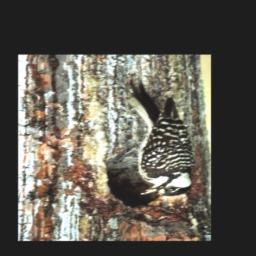Woodpecker: (125, 80, 193, 198)
